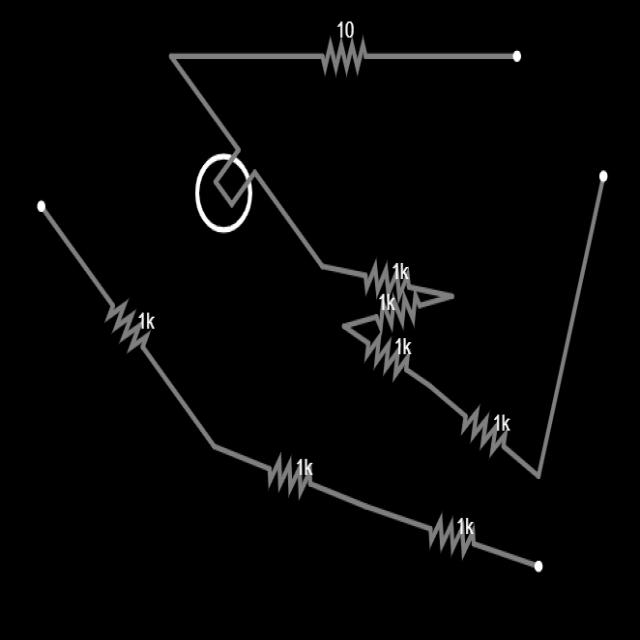Light Bulb: (195, 154, 252, 233)
Resistor: (363, 330, 412, 385), (363, 254, 413, 306), (375, 281, 421, 336), (105, 300, 149, 351), (461, 406, 506, 455), (429, 514, 475, 558), (268, 453, 311, 499), (321, 36, 366, 76)
Wire: (539, 168, 611, 479), (36, 200, 114, 307), (143, 344, 216, 443), (256, 169, 324, 272), (172, 51, 240, 151), (309, 482, 429, 530), (472, 542, 541, 572), (212, 442, 272, 471), (169, 52, 325, 61), (503, 443, 541, 477), (365, 50, 517, 58), (434, 387, 469, 418), (342, 312, 382, 332), (323, 261, 370, 278), (410, 283, 456, 300), (344, 321, 372, 346), (405, 370, 437, 391), (420, 296, 456, 309)
